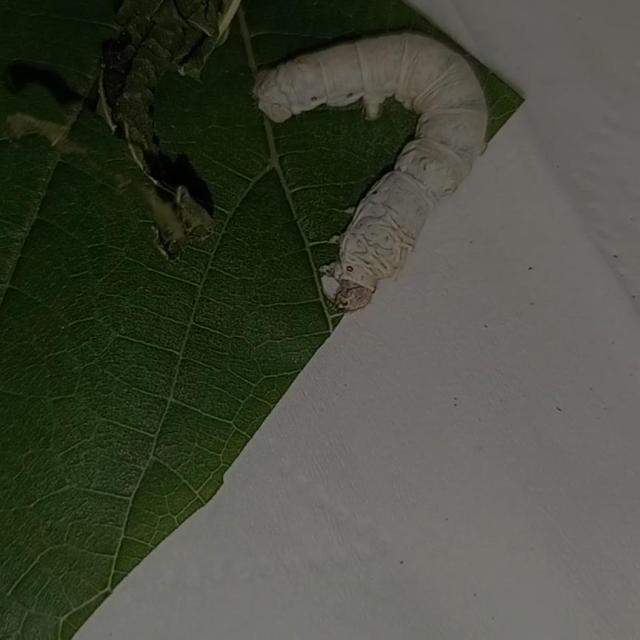Healthy: (232, 15, 506, 330)
